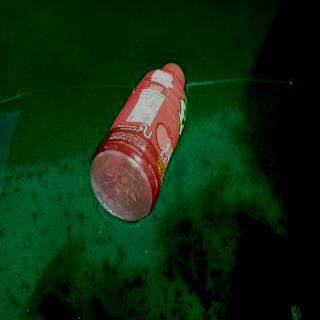bottle: (89, 62, 187, 222)
